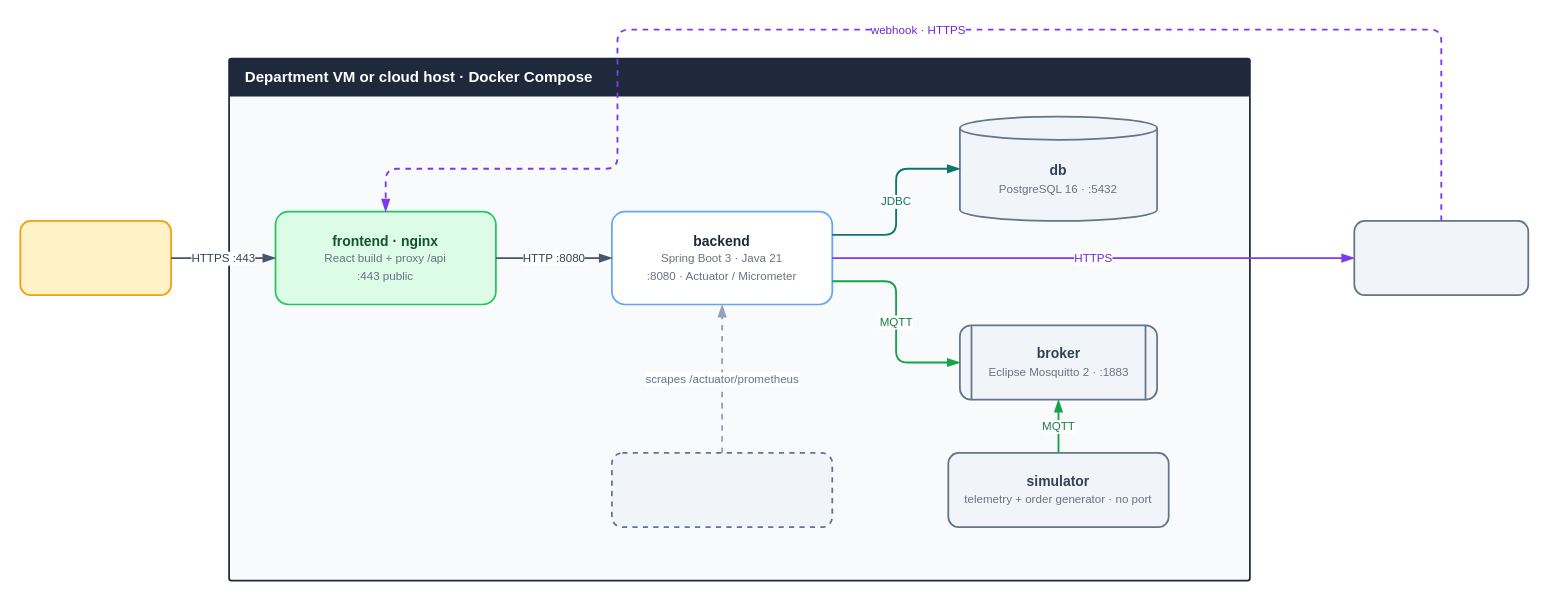
Image size: 1550x602. Some labels were removed from this diagram. Here are the shapes that lost their labels. From the top down, the centre of each, then its label:
At (95,258): "Browser all roles".
At (1441,258): "Stripe API test mode".
At (722,490): "Prometheus + Grafana optional".
